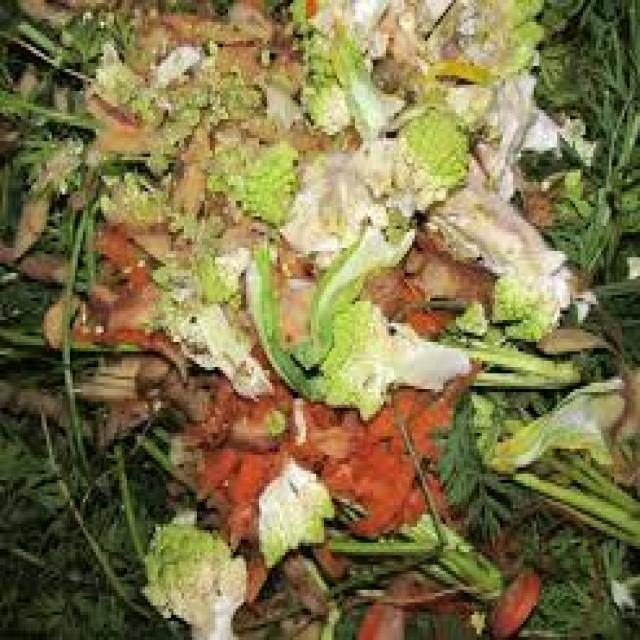food_waste: (24, 51, 589, 591)
